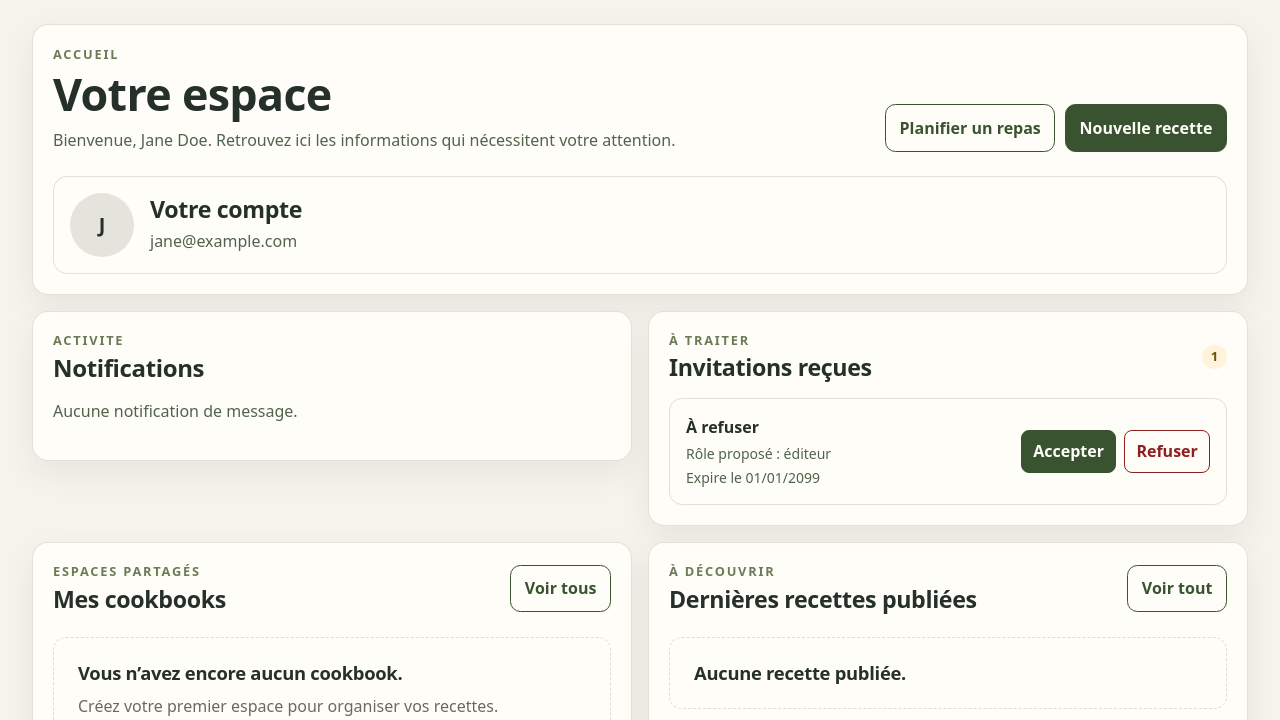
Test: DashboardView › removes an invitation after refusing it
Step 1. Click the button with class "decline-button" → [1167, 452], box [1124,430,1210,473]
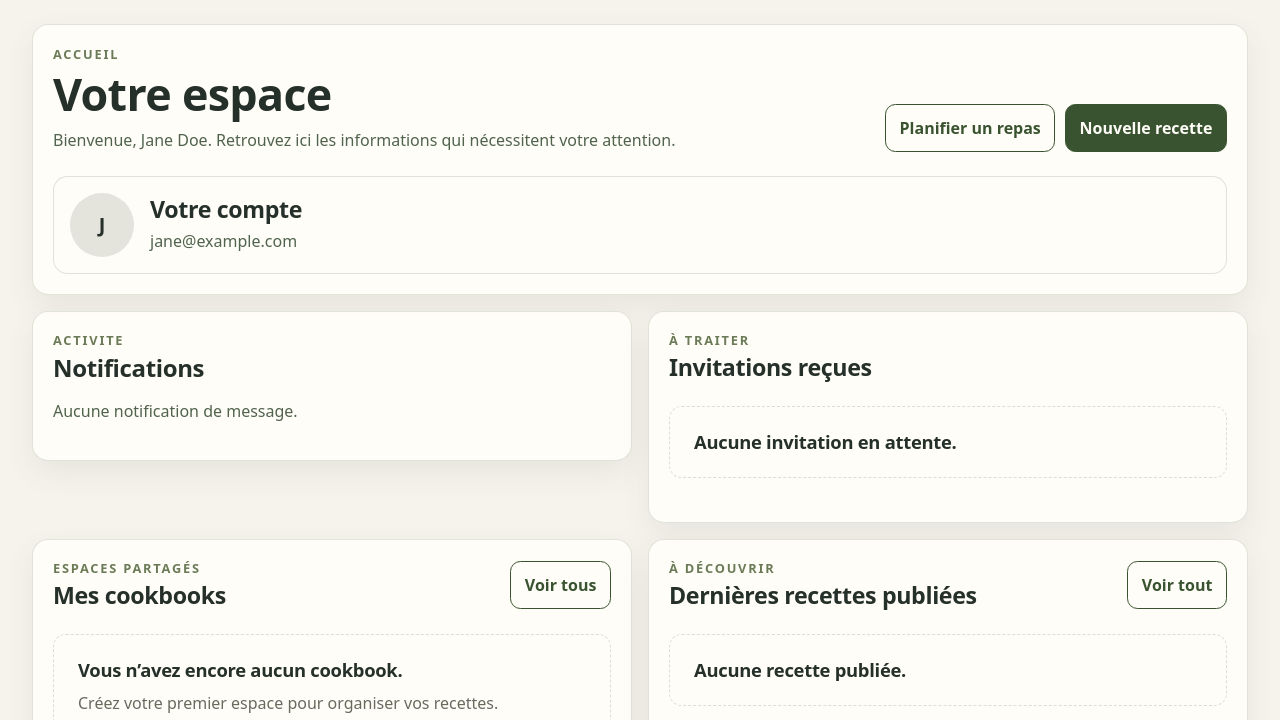
Now the text "Aucune invitation en attente." is shown, box [694,429,957,454]
